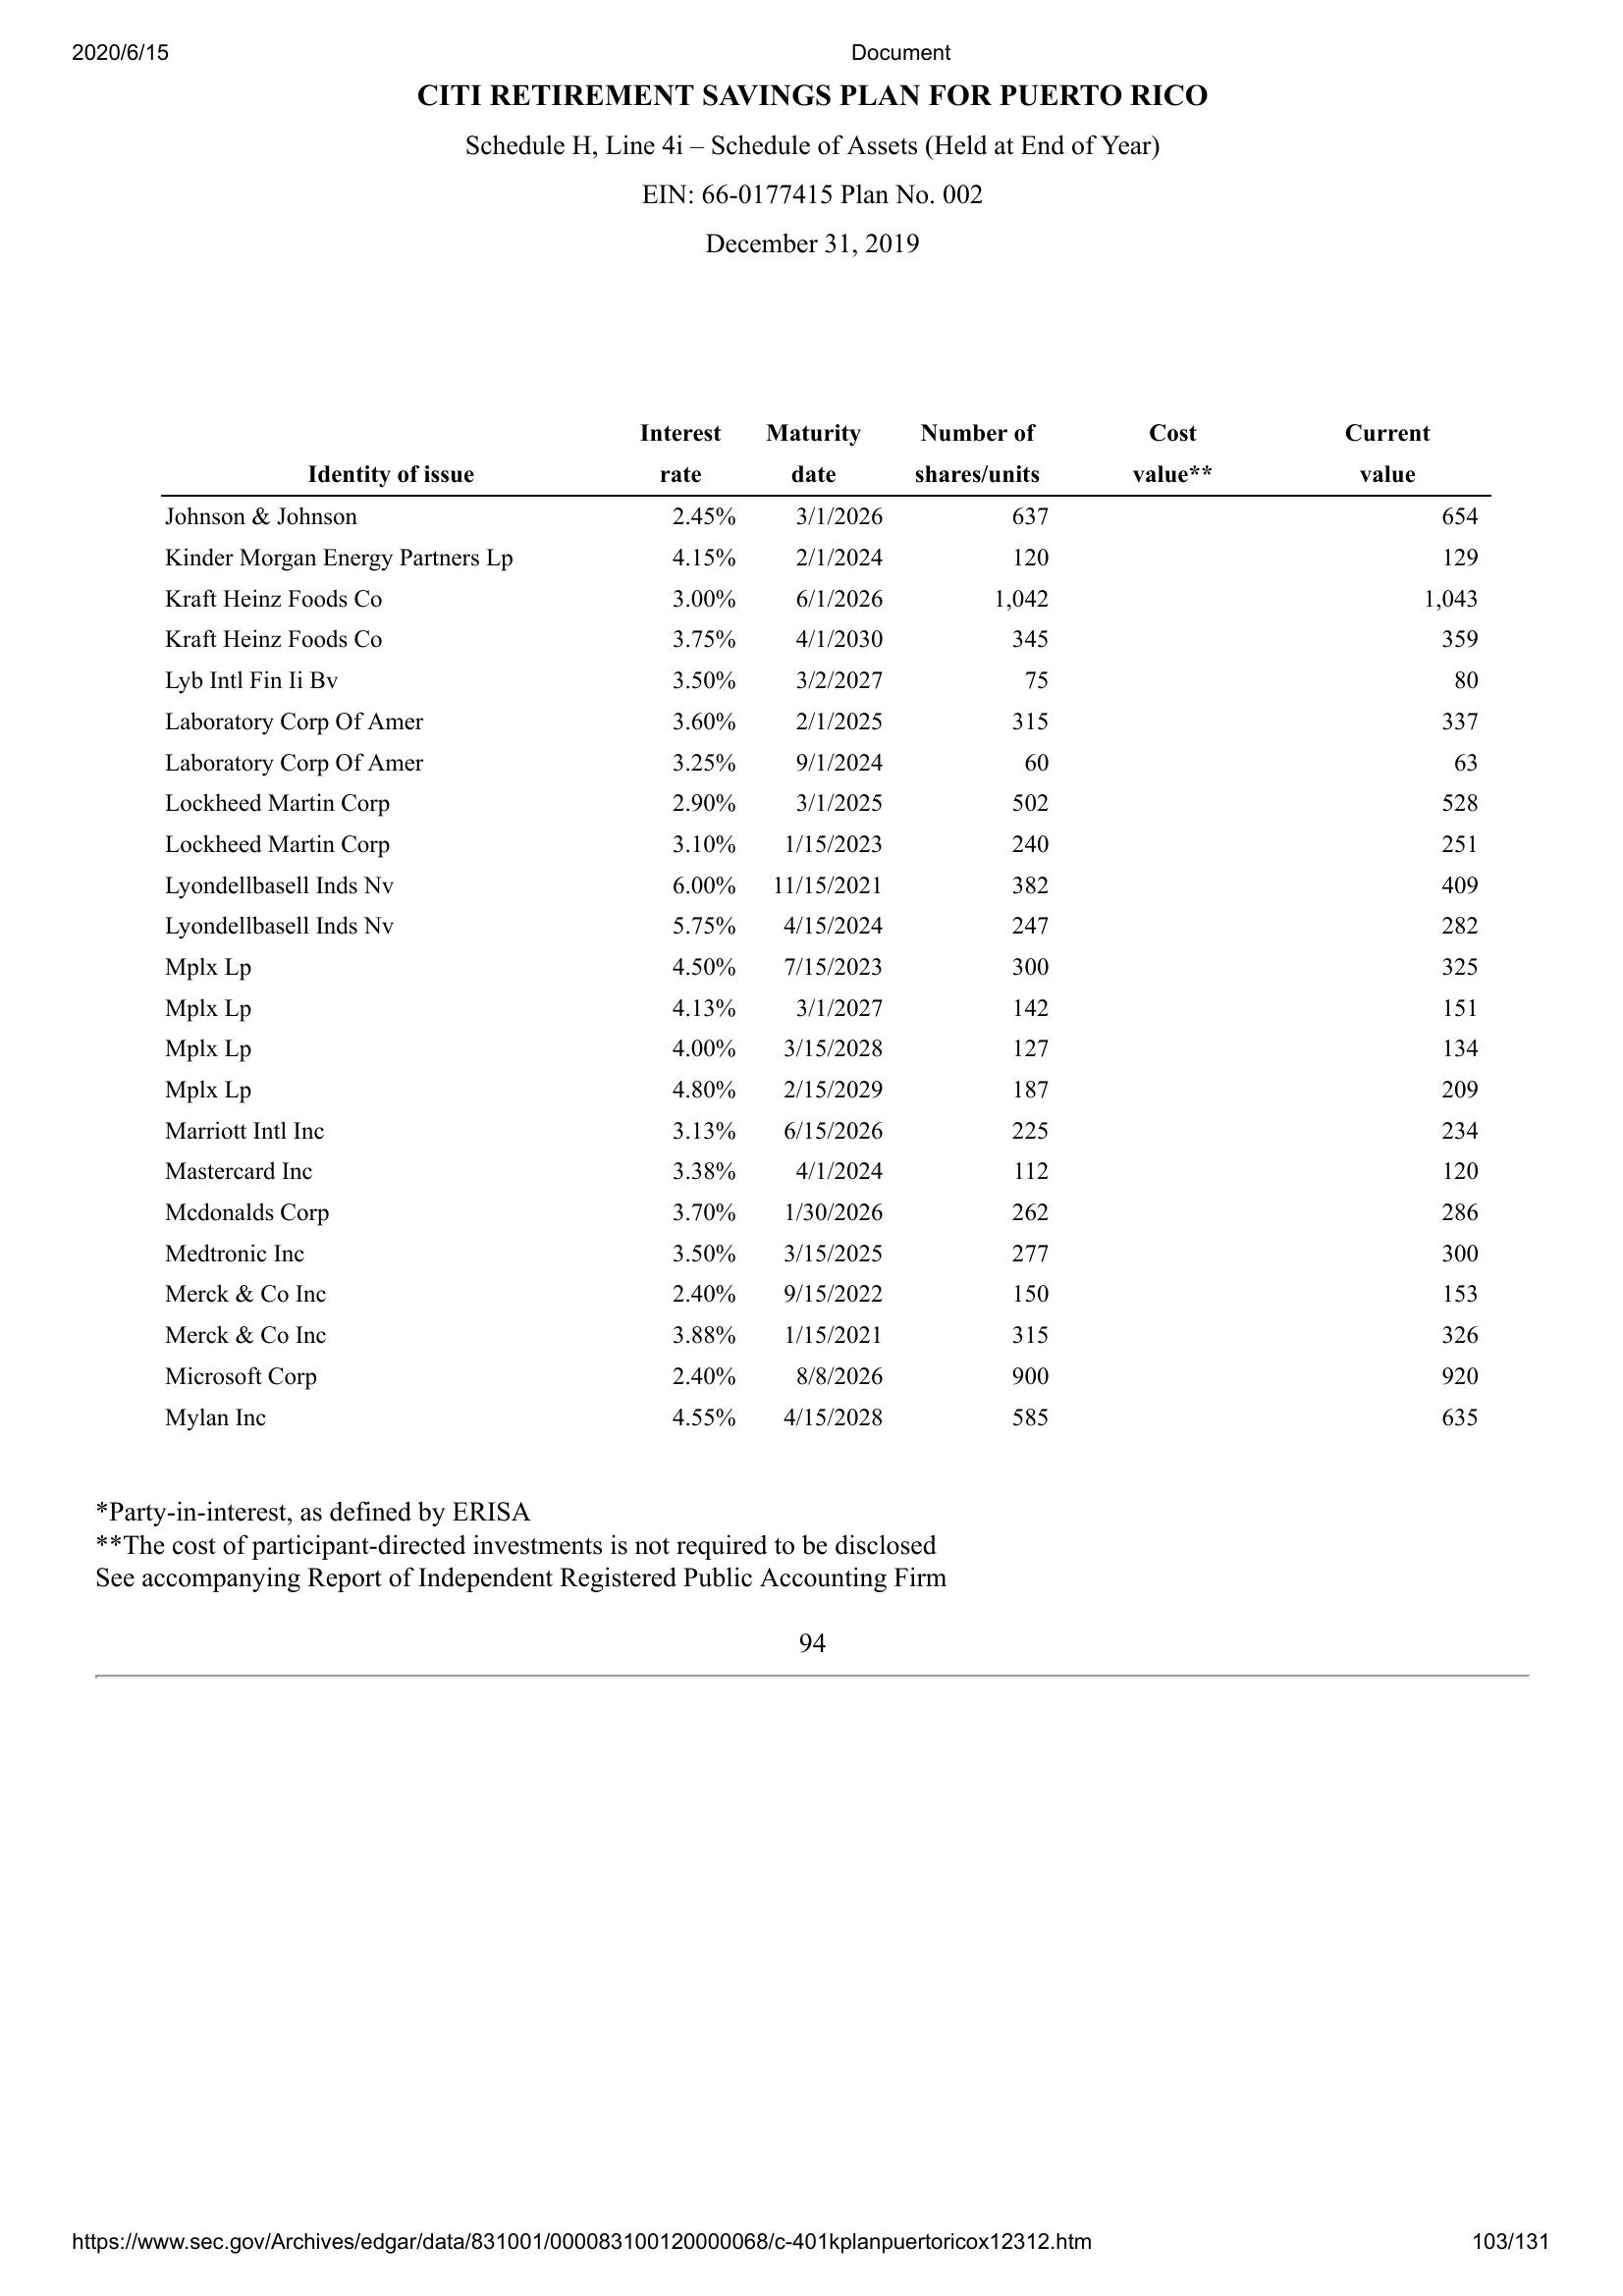table: (141, 421, 1495, 1441)
